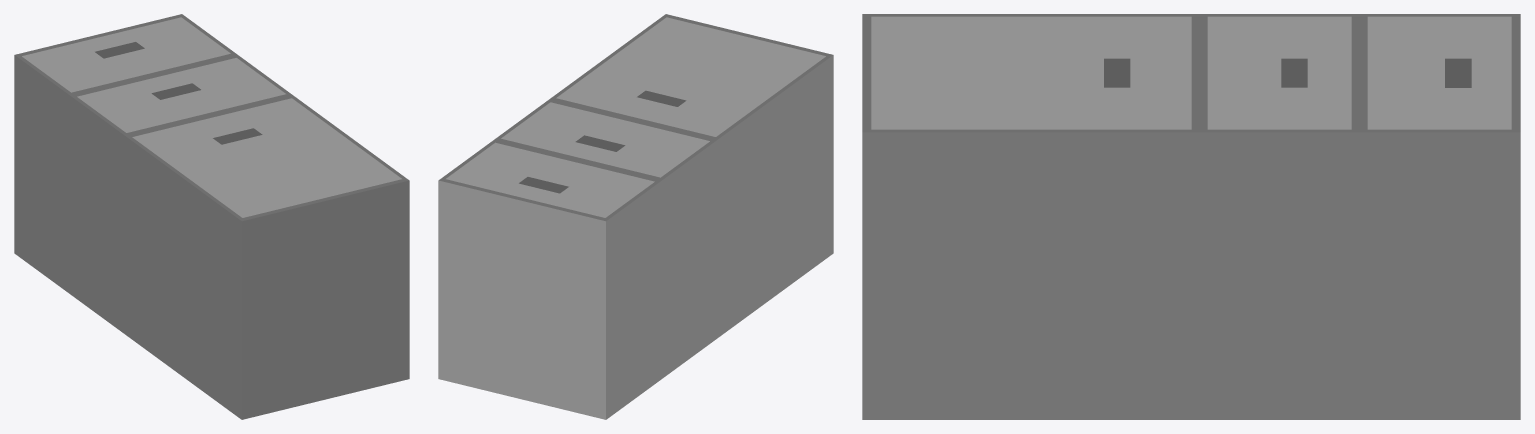
Rendered from FileCabinet2.glb.
3 renders of one model, left to right at view 1: azimuth 30°, elevation 25°; view 2: azimuth 150°, elevation 25°; view 3: azimuth 270°, elevation 25°, orthographic. The views are drawn at different scales.
Visible parts, largest first — view 1: SO_FileCabinet_02; view 2: SO_FileCabinet_02; view 3: SO_FileCabinet_02.
Boxes of the visible parts, x1,y1,x2,y2 form: SO_FileCabinet_02: [14, 14, 409, 419]; SO_FileCabinet_02: [438, 14, 833, 419]; SO_FileCabinet_02: [862, 14, 1520, 419].
Size of the model in its own units: 1.1 by 1.24 by 2.58.
1 material, 1 textured.
